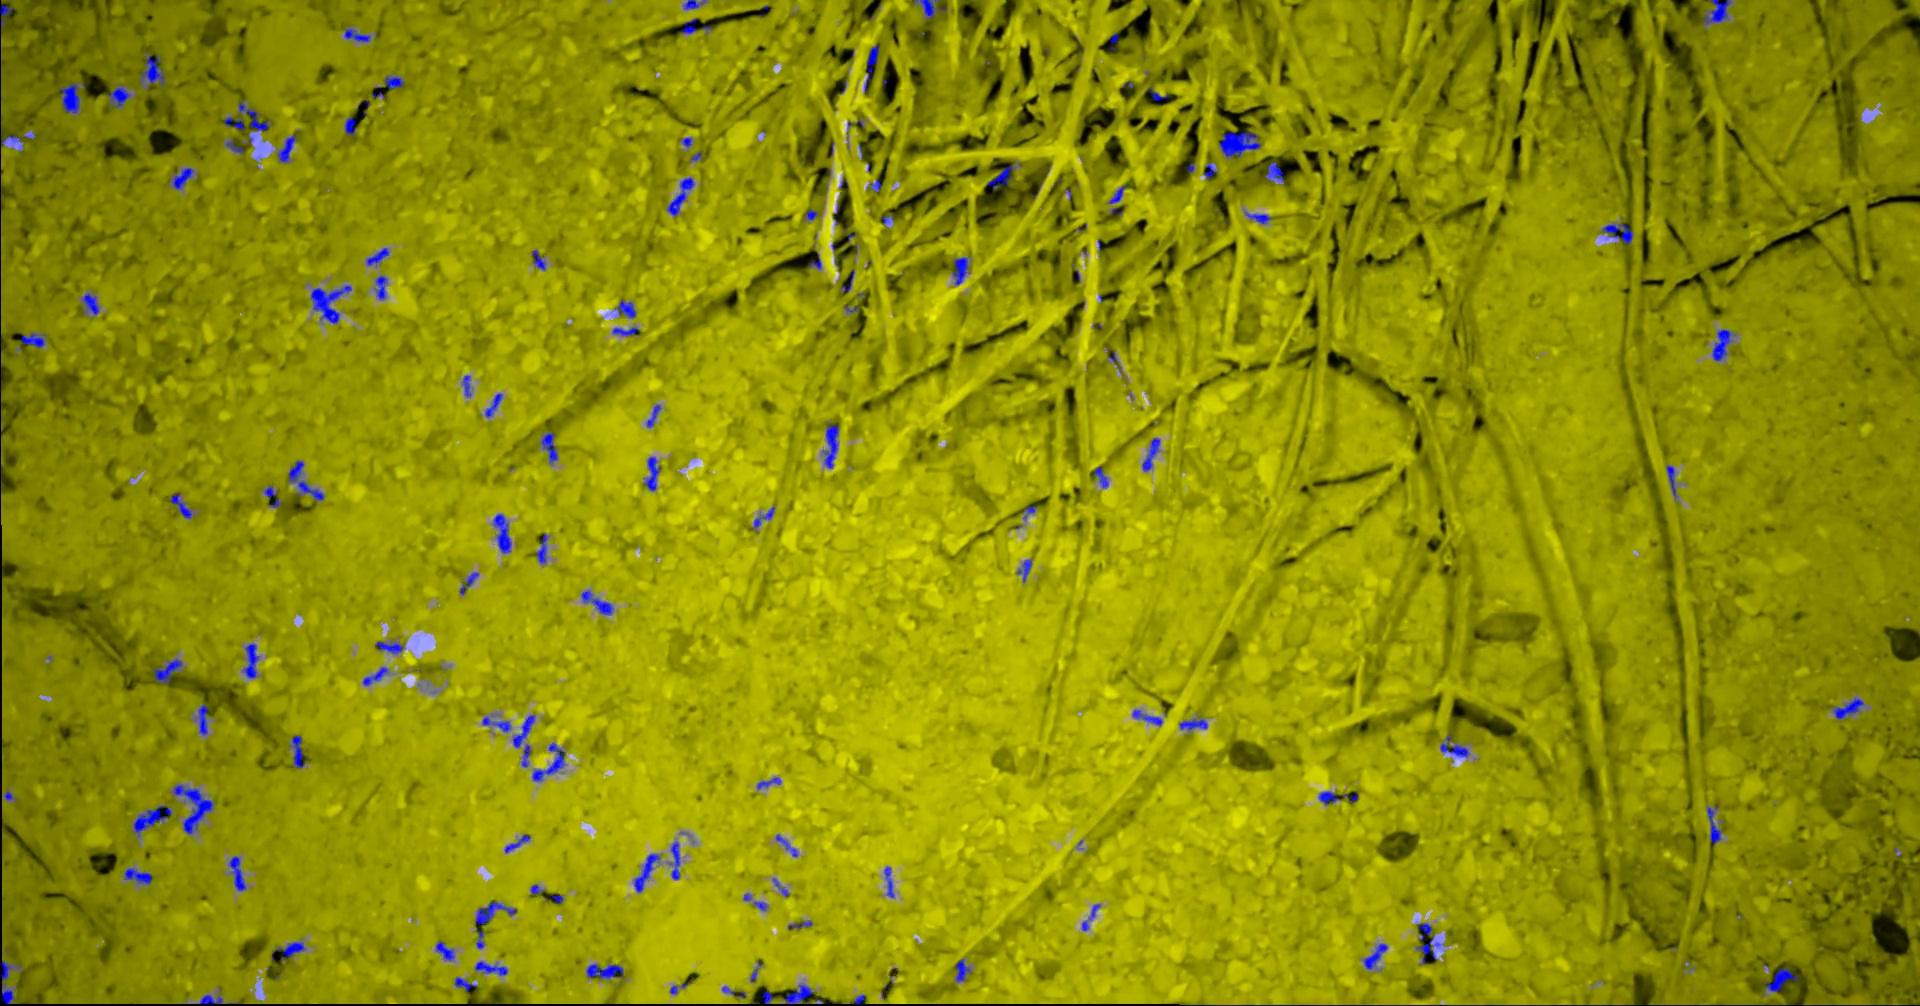ant: (174, 784, 216, 835), (476, 901, 517, 948), (312, 285, 353, 323), (290, 460, 326, 500), (533, 742, 568, 781), (135, 805, 174, 836), (1220, 131, 1262, 158), (668, 177, 696, 215), (1417, 922, 1443, 963), (635, 854, 662, 892), (239, 102, 270, 131), (1765, 967, 1801, 992), (141, 55, 168, 85), (60, 83, 86, 113), (582, 589, 615, 614), (494, 513, 513, 553), (155, 658, 184, 683), (866, 44, 881, 93), (1834, 696, 1865, 719), (824, 424, 841, 467), (514, 714, 536, 747), (1441, 733, 1470, 757), (1, 116, 24, 146), (1713, 329, 1736, 359), (1, 959, 17, 1005), (1705, 0, 1733, 24), (273, 941, 306, 962), (1603, 224, 1634, 244), (988, 165, 1015, 189), (1365, 942, 1389, 969), (913, 0, 949, 18), (230, 855, 248, 890), (783, 984, 814, 1005), (226, 132, 255, 152), (541, 431, 559, 464), (1143, 437, 1161, 470), (244, 643, 260, 678), (1708, 805, 1723, 843), (587, 963, 625, 978), (645, 456, 662, 490), (279, 133, 298, 163), (171, 493, 193, 518), (292, 735, 309, 767), (173, 166, 196, 189), (364, 666, 390, 685), (1321, 791, 1359, 804), (1134, 709, 1163, 725), (124, 868, 154, 884), (505, 835, 532, 852), (777, 835, 799, 856), (109, 86, 132, 107), (756, 506, 776, 528), (954, 257, 970, 285), (476, 962, 509, 976), (83, 292, 102, 315), (461, 572, 480, 594), (670, 841, 682, 879), (486, 392, 504, 417), (1266, 161, 1286, 182), (368, 246, 390, 265), (616, 298, 637, 318), (484, 716, 512, 730), (437, 940, 456, 960), (265, 485, 283, 507), (1180, 718, 1209, 730), (22, 332, 46, 347), (1667, 465, 1677, 499), (956, 958, 971, 981), (345, 28, 372, 41), (1246, 211, 1272, 224), (199, 702, 210, 735), (537, 533, 549, 563), (376, 641, 405, 653), (456, 976, 477, 991), (648, 404, 662, 427), (1110, 185, 1128, 203), (1095, 466, 1110, 486), (886, 866, 897, 897), (758, 776, 782, 789), (225, 116, 246, 130), (533, 249, 547, 271), (1018, 559, 1032, 580), (1, 4, 14, 27), (1150, 86, 1170, 102), (376, 276, 389, 298), (681, 18, 698, 33), (385, 75, 405, 88), (613, 326, 640, 335), (201, 995, 223, 1005), (345, 116, 357, 135), (684, 0, 709, 9), (789, 920, 813, 929), (523, 744, 532, 767), (762, 989, 775, 1005), (463, 375, 472, 396), (1206, 163, 1218, 178), (1111, 32, 1120, 50)
